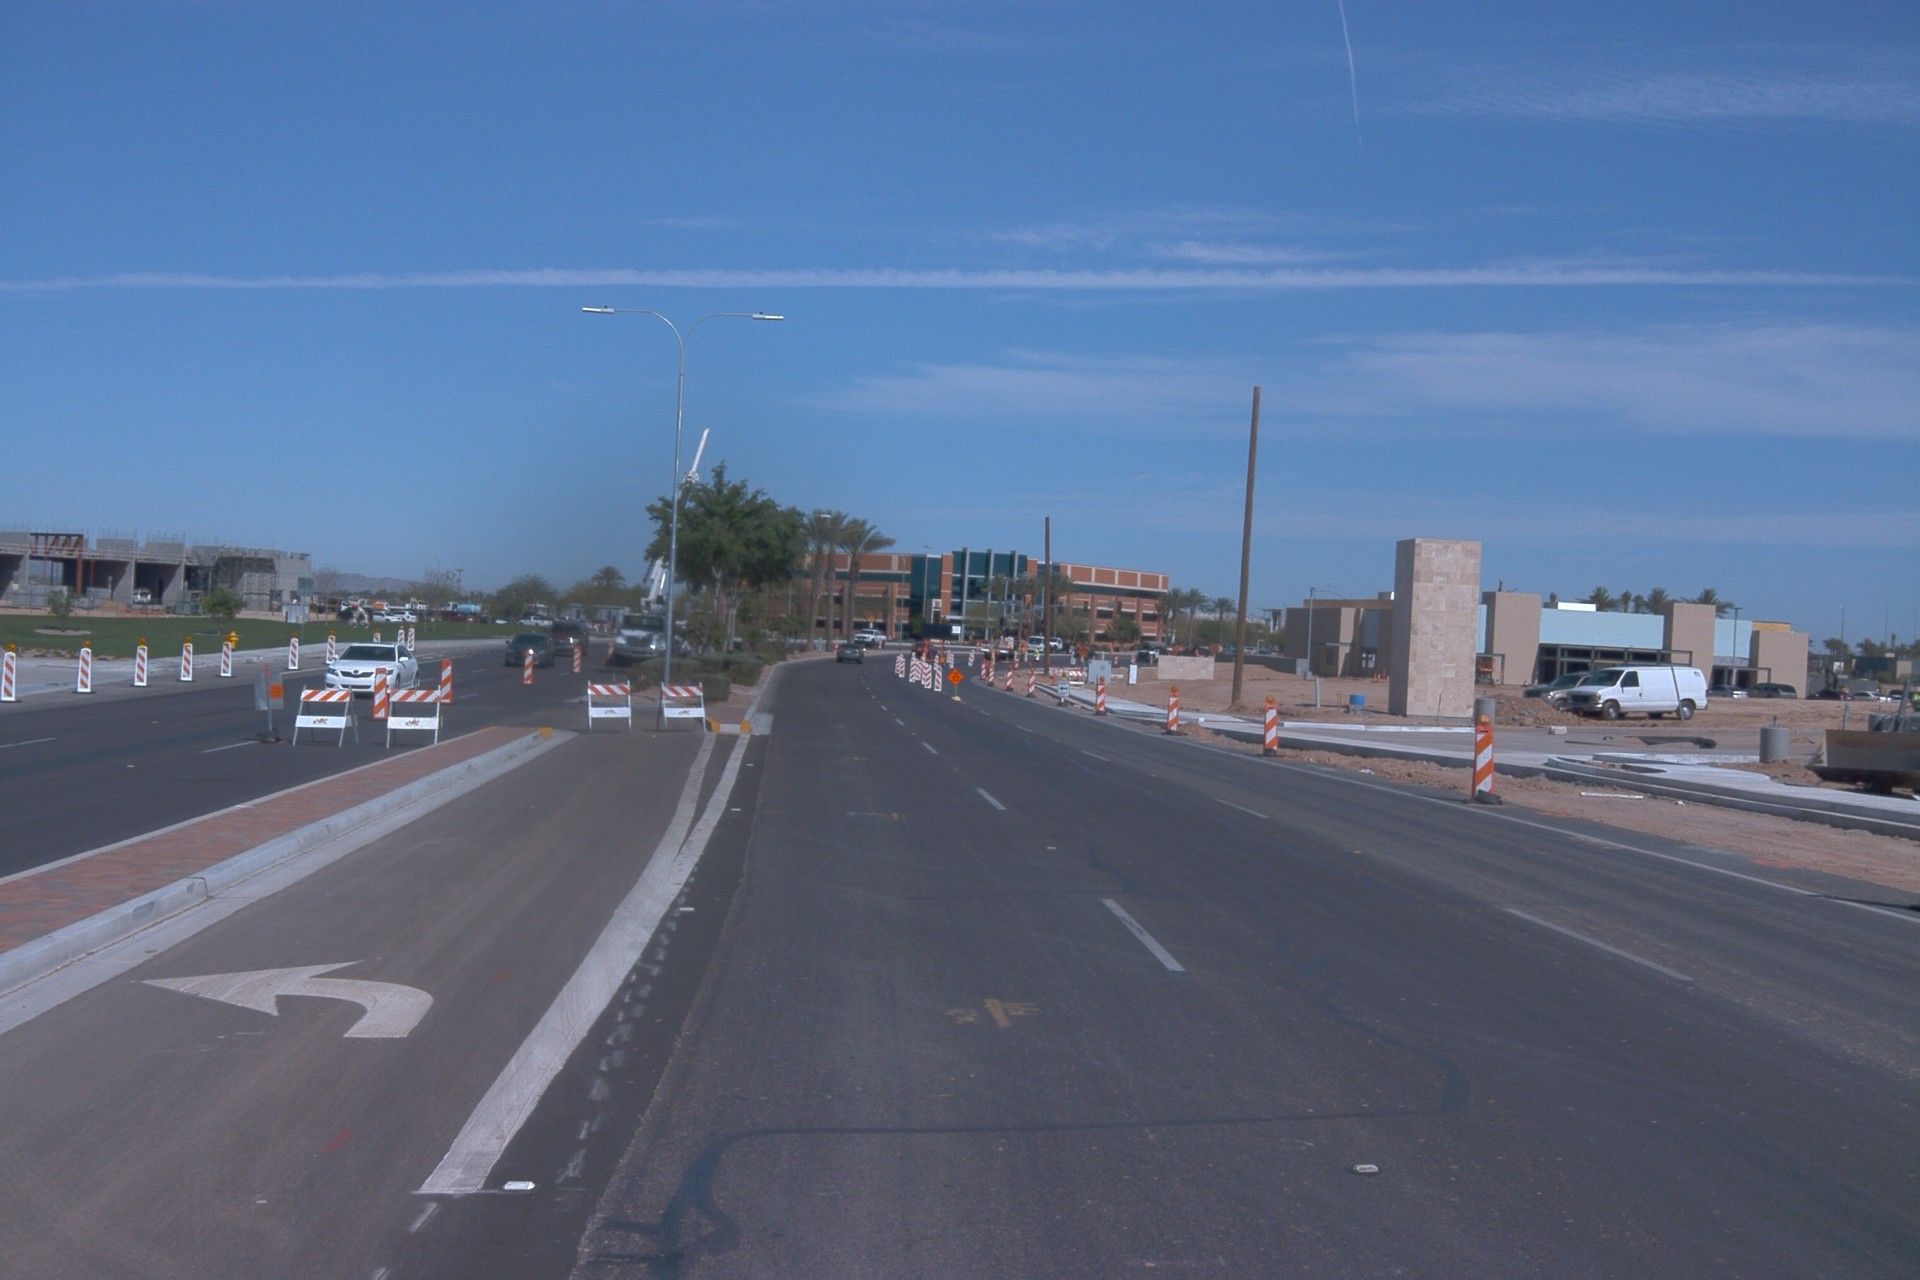TYPE_PEDESTRIAN: (1912, 684, 1920, 711), (1033, 648, 1040, 663)
TYPE_VEHICLE: (599, 423, 728, 668), (1565, 663, 1712, 722), (321, 643, 419, 702), (1520, 671, 1593, 715), (913, 621, 954, 675), (544, 617, 591, 662), (504, 633, 555, 669), (974, 633, 1018, 664), (1132, 642, 1178, 665), (332, 602, 374, 627), (1744, 682, 1798, 699), (1046, 631, 1084, 655), (309, 595, 352, 616), (440, 606, 482, 625), (1805, 689, 1858, 703), (835, 642, 865, 666), (855, 630, 888, 651), (1024, 635, 1056, 656), (1704, 684, 1748, 699), (1848, 690, 1892, 704), (514, 612, 550, 629), (415, 608, 446, 627), (368, 611, 402, 628), (1888, 689, 1920, 705), (131, 584, 151, 607), (392, 608, 420, 624), (908, 640, 930, 660), (1250, 649, 1276, 655)
